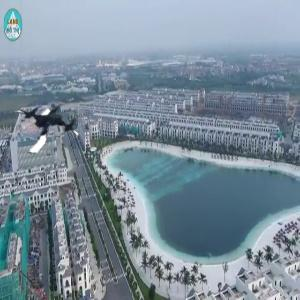drone: (7, 94, 79, 166)
